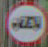Heavy Vehicles: (3, 2, 47, 44)
